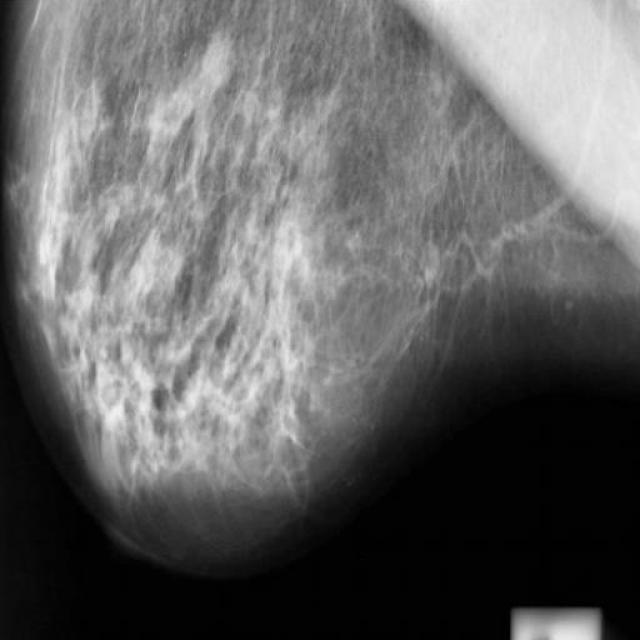cancer: (263, 199, 322, 310)
